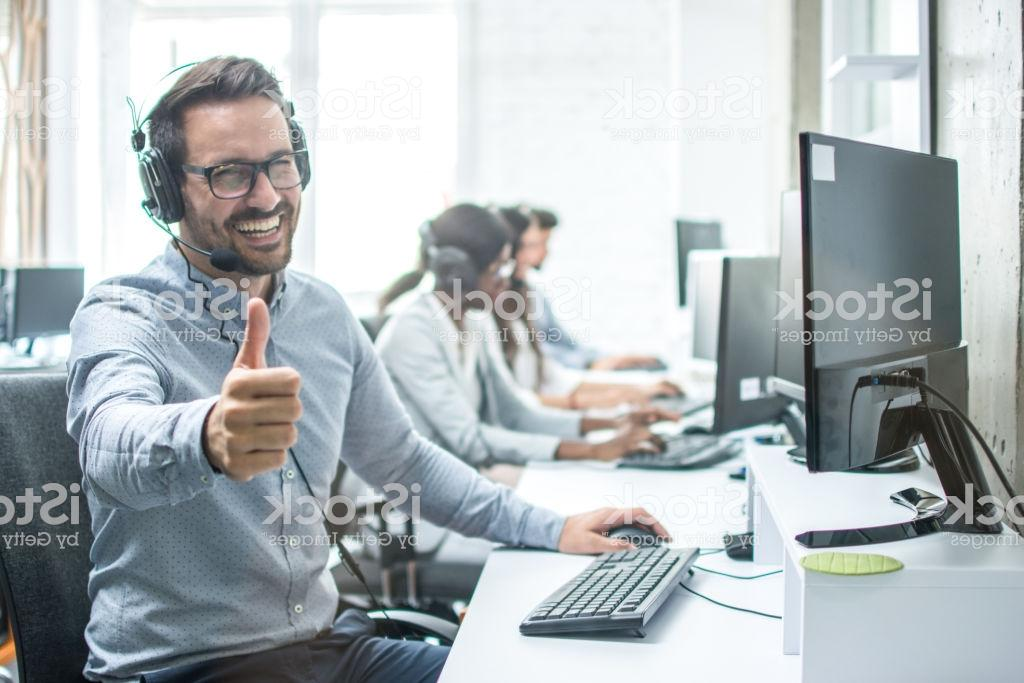thumbsup: (220, 298, 305, 482)
